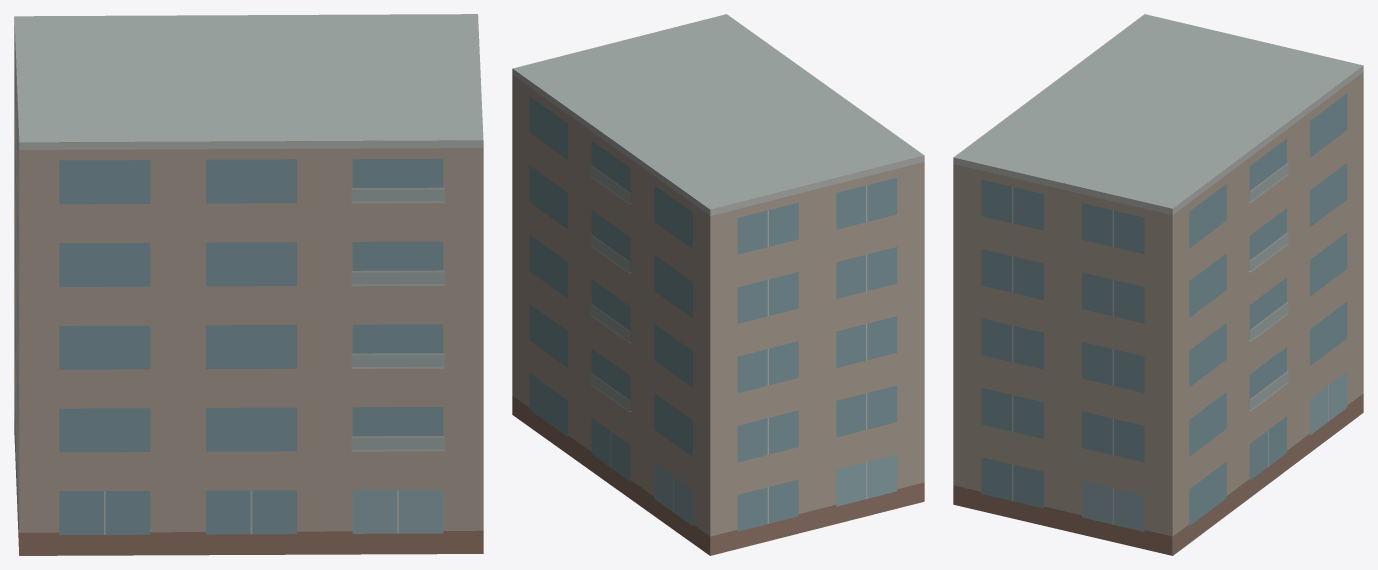
Rendered from survey-upis-32890024.glb.
3 renders of one model, left to right at view 1: azimuth 30°, elevation 25°; view 2: azimuth 150°, elevation 25°; view 3: azimuth 270°, elevation 25°, orthographic. The views are drawn at different scales.
Parts seen in each view (by area): view 1: survey-upis-32890024.tmp; view 2: survey-upis-32890024.tmp; view 3: survey-upis-32890024.tmp.
Part boxes in pixels (x1,y1,x2,y2): survey-upis-32890024.tmp: [14, 14, 483, 555]; survey-upis-32890024.tmp: [512, 14, 924, 555]; survey-upis-32890024.tmp: [953, 14, 1363, 555].
Bounding box in the file's own units: 15.77 × 13.1 × 14.04.
